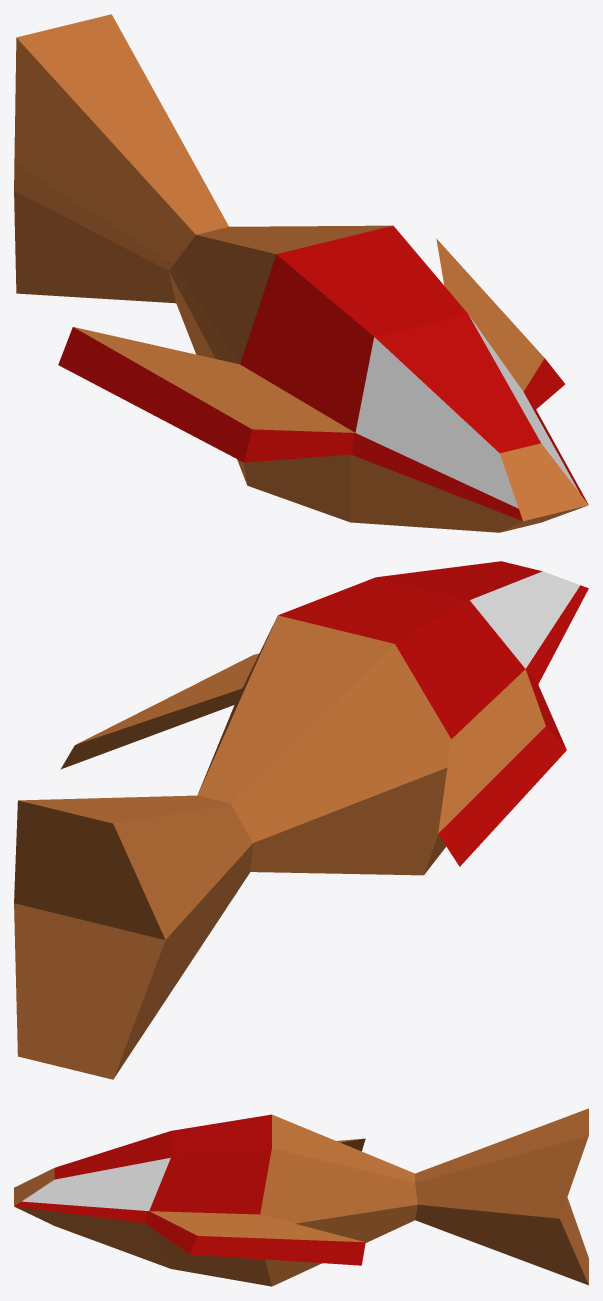
File: fish_lil.fbx
3 views of the same model, one above another, from view 1: azimuth 30°, elevation 25°; view 2: azimuth 150°, elevation 25°; view 3: azimuth 270°, elevation 25° (orthographic). The views are drawn at different scales.
Parts seen in each view (by area): view 1: Peixe2; view 2: Peixe2; view 3: Peixe2.
Boxes of the visible parts, left/top/right/bottom form: Peixe2: left=14, top=14, right=588, bottom=532; Peixe2: left=14, top=561, right=588, bottom=1079; Peixe2: left=14, top=1108, right=588, bottom=1286.
Size of the model in its own units: 0.3556 by 0.218 by 0.7577.
